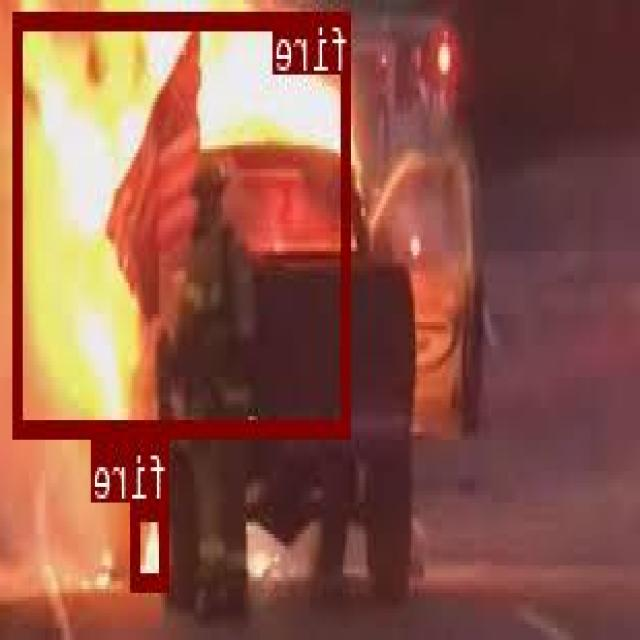fire: (15, 8, 352, 434), (134, 502, 170, 589)
